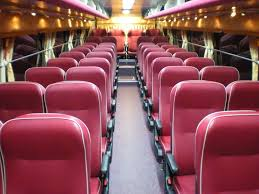seat: (170, 103, 204, 192)
